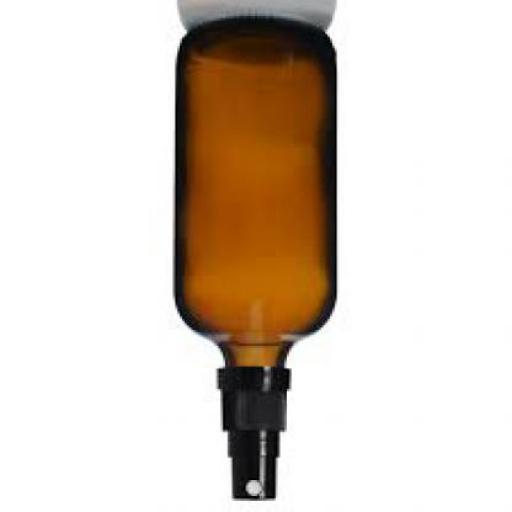glass: (177, 18, 340, 370)
plastic: (221, 371, 293, 505)
